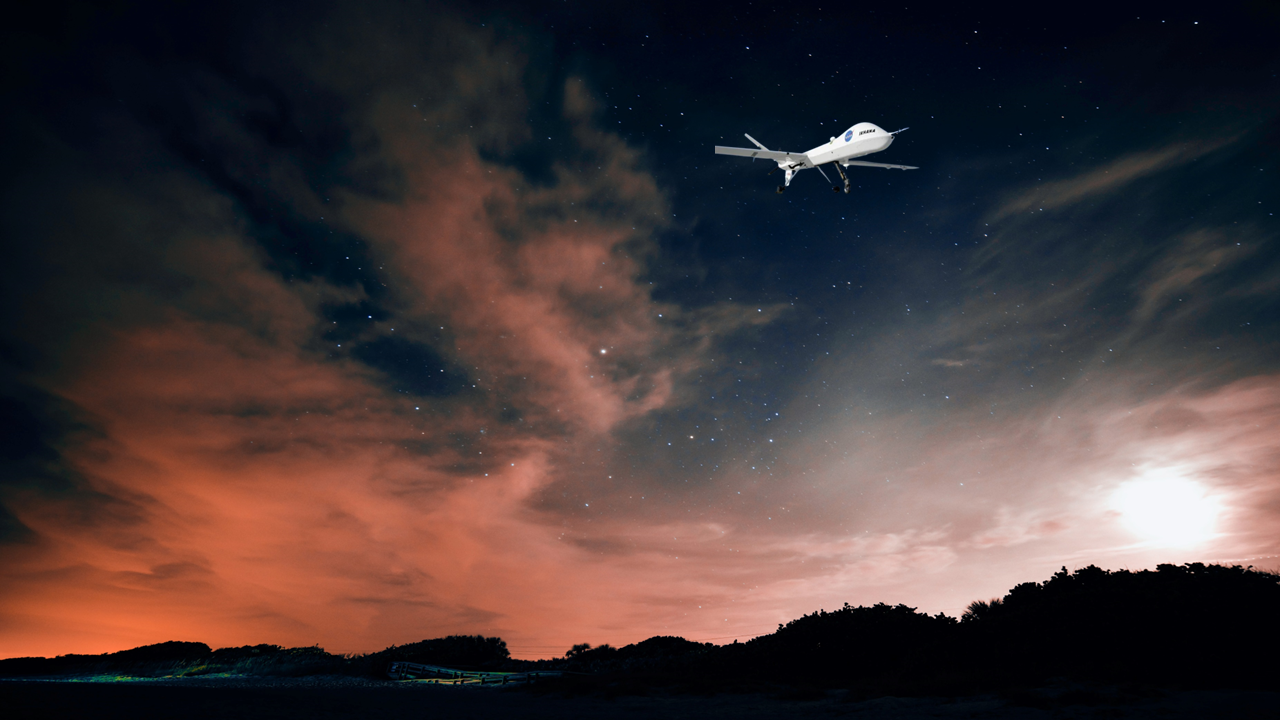military drone: (714, 122, 919, 194)
